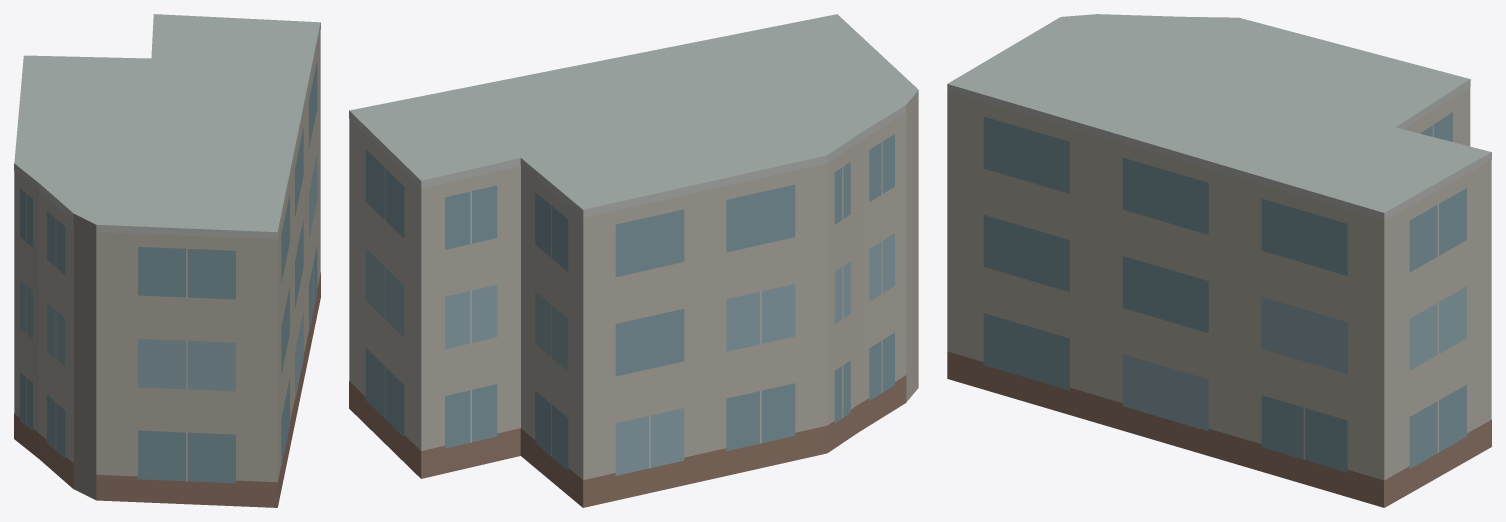
Rendered from survey-upis-32932115.glb.
The picture shows the model from 3 angles, left to right: view 1: azimuth 30°, elevation 25°; view 2: azimuth 150°, elevation 25°; view 3: azimuth 270°, elevation 25°; orthographic projection. The views are drawn at different scales.
Visible parts, largest first — view 1: survey-upis-32932115.tmp; view 2: survey-upis-32932115.tmp; view 3: survey-upis-32932115.tmp.
Part boxes in pixels (left/top/right/bottom): survey-upis-32932115.tmp: left=14, top=14, right=320, bottom=507; survey-upis-32932115.tmp: left=349, top=14, right=918, bottom=507; survey-upis-32932115.tmp: left=947, top=14, right=1491, bottom=507.
Size of the model in its own units: 13.25 by 9.15 by 15.32.
